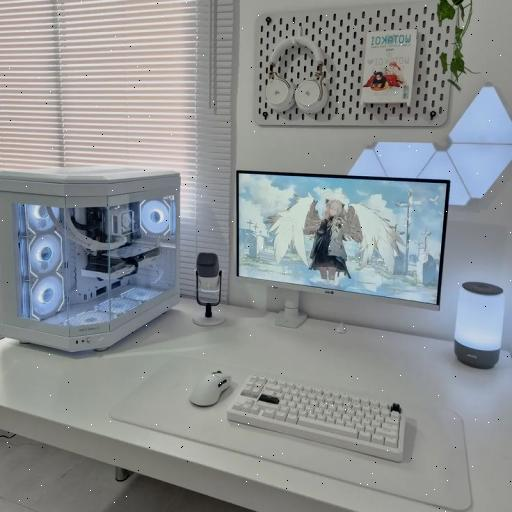computer case: (1, 165, 184, 351)
monitor: (237, 168, 451, 307)
